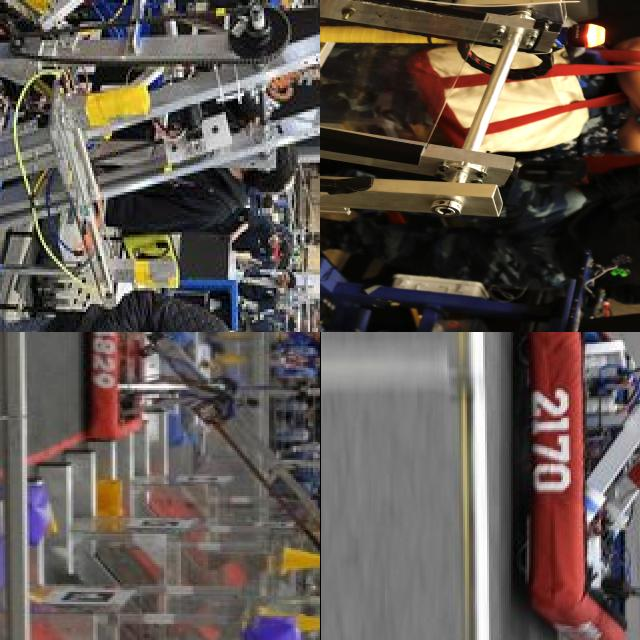FRC-Robots: (0, 0, 320, 332), (62, 332, 320, 595), (320, 0, 512, 332), (481, 332, 640, 640)
